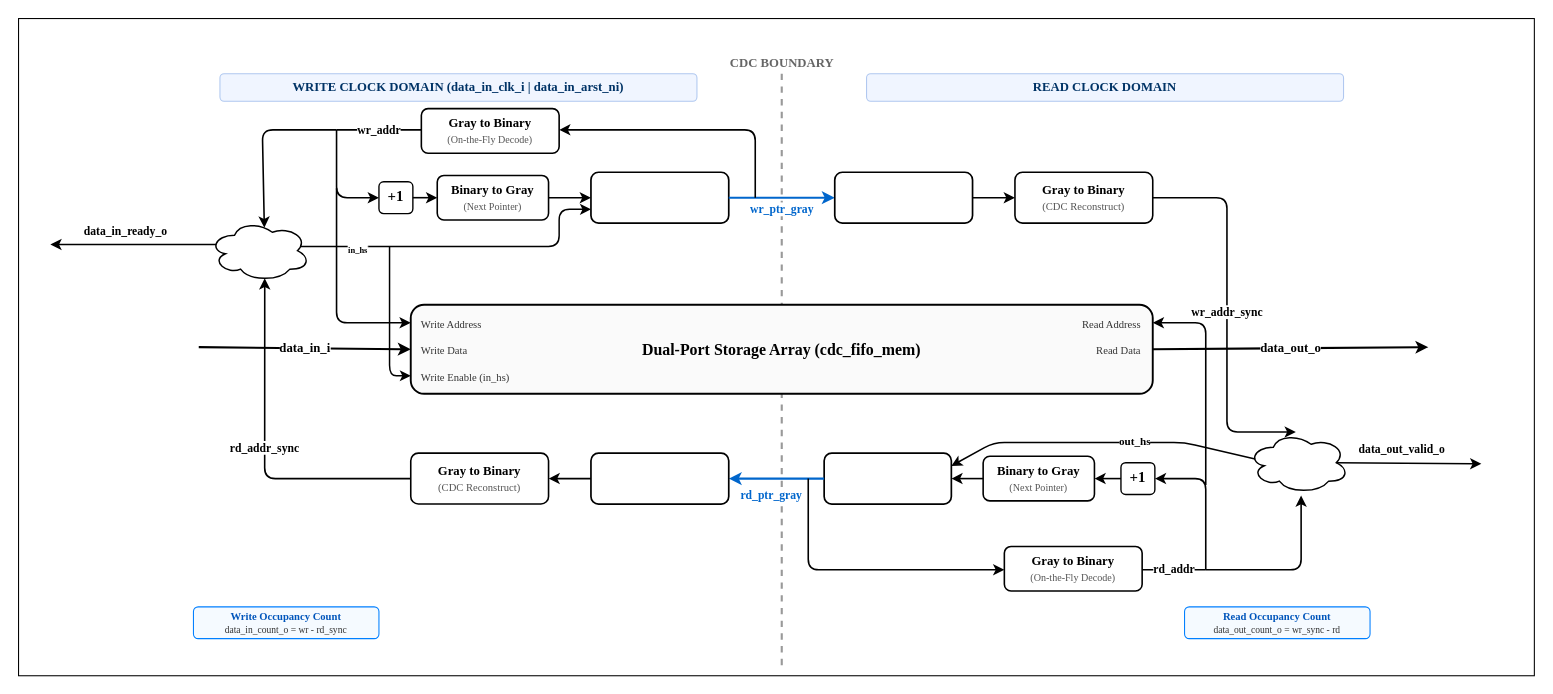
Some shapes in this 1553 by 694 pixel diagram are drawn without their labels. Each missing label, with the centre of its shape:
"2FF Synchronizer (data_in_clk_i)" goes at point (659, 478).
"2FF Synchronizer (data_out_clk_i)" goes at point (903, 197).
"Empty Logic" goes at point (1298, 462).
"Full Logic" goes at point (259, 250).
"Read Pointer Reg (Gray Code Only)" goes at point (887, 478).
"Write Pointer Reg (Gray Code Only)" goes at point (659, 197).
